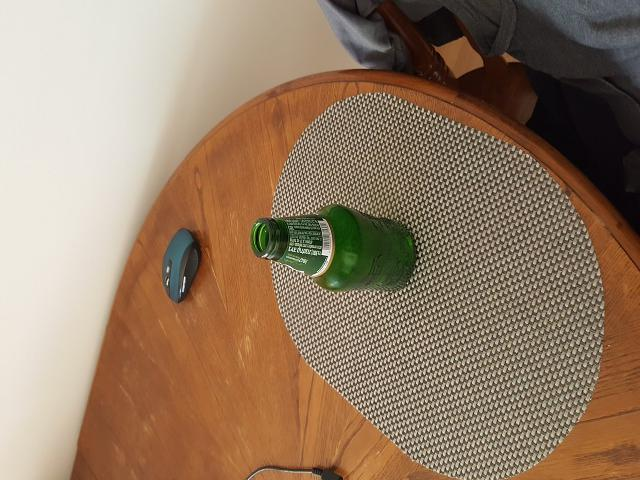beer: (249, 201, 416, 295)
